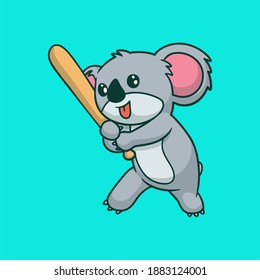animal: (43, 29, 222, 229)
